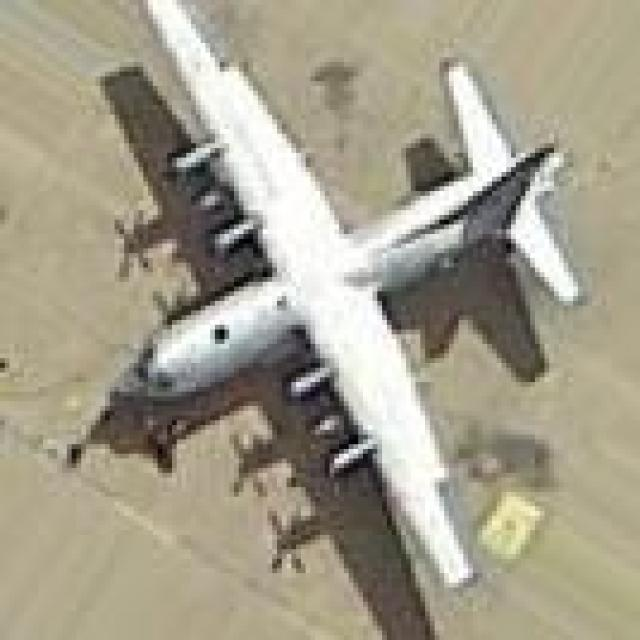C-130_TopDown: (71, 0, 586, 640)
